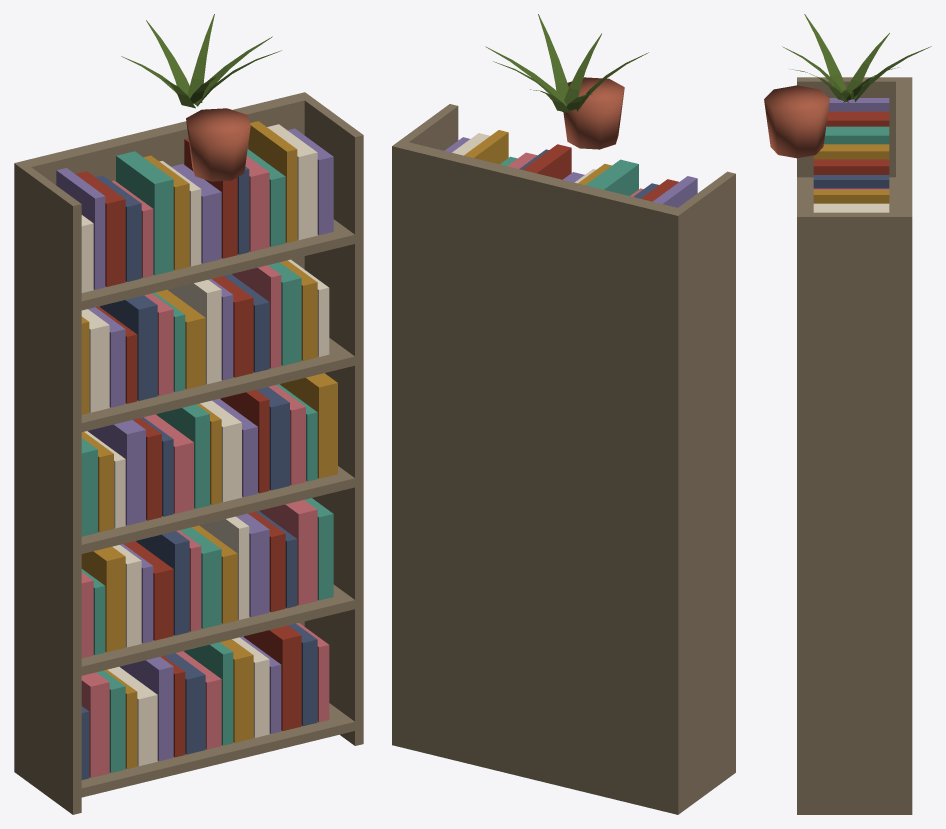
Rendered from city_bookshelf.glb.
The picture shows the model from 3 angles, left to right: view 1: azimuth 30°, elevation 25°; view 2: azimuth 150°, elevation 25°; view 3: azimuth 270°, elevation 25°; orthographic projection.
Visible parts, largest first — view 1: CityBookshelf_Side-0.5, CityBookshelf_Side0.47, CityBookshelf_Back, CityBookshelf_Shelf0, CityBookshelf_Shelf3, CityBookshelf_Shelf1, CityBookshelf_Shelf4, CityBookshelf_Shelf2, CityBookshelf_Pot, CityBookshelf_Book4_5, CityBookshelf_Book1_14, CityBookshelf_Book3_4 (+78 smaller); view 2: CityBookshelf_Back, CityBookshelf_Side-0.5, CityBookshelf_Pot, CityBookshelf_Side0.47, CityBookshelf_Plant, CityBookshelf_Book4_5, CityBookshelf_Book4_9, CityBookshelf_Book4_13, CityBookshelf_Book4_1; view 3: CityBookshelf_Side0.47, CityBookshelf_Back, CityBookshelf_Pot, CityBookshelf_Side-0.5, CityBookshelf_Plant, CityBookshelf_Book4_5, CityBookshelf_Book4_9, CityBookshelf_Book4_6, CityBookshelf_Book4_10, CityBookshelf_Book4_13, CityBookshelf_Book4_2, CityBookshelf_Shelf4 (+2 smaller).
Part boxes in pixels (box(x1,y1,x2,y2)): CityBookshelf_Side-0.5: box(14, 163, 81, 814); CityBookshelf_Side0.47: box(304, 93, 363, 745); CityBookshelf_Back: box(14, 92, 308, 777); CityBookshelf_Shelf0: box(78, 703, 357, 798); CityBookshelf_Shelf3: box(78, 338, 357, 432); CityBookshelf_Shelf1: box(78, 584, 357, 676); CityBookshelf_Shelf4: box(78, 219, 357, 310); CityBookshelf_Shelf2: box(78, 466, 357, 554); CityBookshelf_Pot: box(186, 108, 250, 181); CityBookshelf_Book4_5: box(116, 151, 173, 275); CityBookshelf_Book1_14: box(260, 500, 317, 605); CityBookshelf_Book3_4: box(100, 295, 157, 400); CityBookshelf_Back: box(392, 141, 686, 814); CityBookshelf_Side-0.5: box(670, 171, 735, 814); CityBookshelf_Pot: box(563, 77, 624, 149); CityBookshelf_Side0.47: box(392, 104, 458, 743); CityBookshelf_Plant: box(485, 14, 648, 113); CityBookshelf_Book4_5: box(585, 159, 638, 195); CityBookshelf_Book4_9: box(522, 144, 571, 179); CityBookshelf_Book4_13: box(464, 130, 508, 164); CityBookshelf_Book4_1: box(653, 176, 697, 207); CityBookshelf_Side0.47: box(797, 212, 912, 814); CityBookshelf_Back: box(896, 77, 912, 814); CityBookshelf_Pot: box(764, 85, 829, 158); CityBookshelf_Side-0.5: box(797, 77, 911, 177); CityBookshelf_Plant: box(782, 14, 931, 102); CityBookshelf_Book4_5: box(824, 126, 889, 144); CityBookshelf_Book4_9: box(813, 159, 889, 174); CityBookshelf_Book4_6: box(813, 144, 889, 159); CityBookshelf_Book4_10: box(813, 175, 889, 188); CityBookshelf_Book4_13: box(813, 190, 889, 203); CityBookshelf_Book4_2: box(826, 111, 889, 126); CityBookshelf_Shelf4: box(797, 177, 895, 212).
Size of the model in its own units: 1 by 2.36 by 0.5091.
